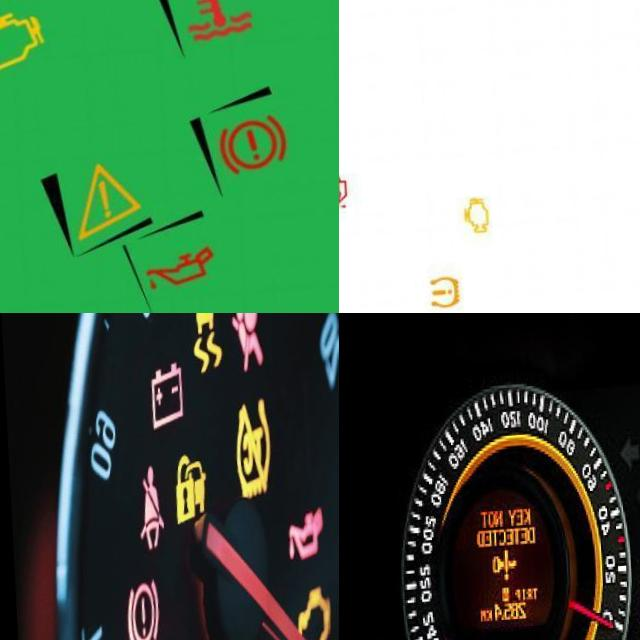Seat Belt: (134, 468, 162, 551)
